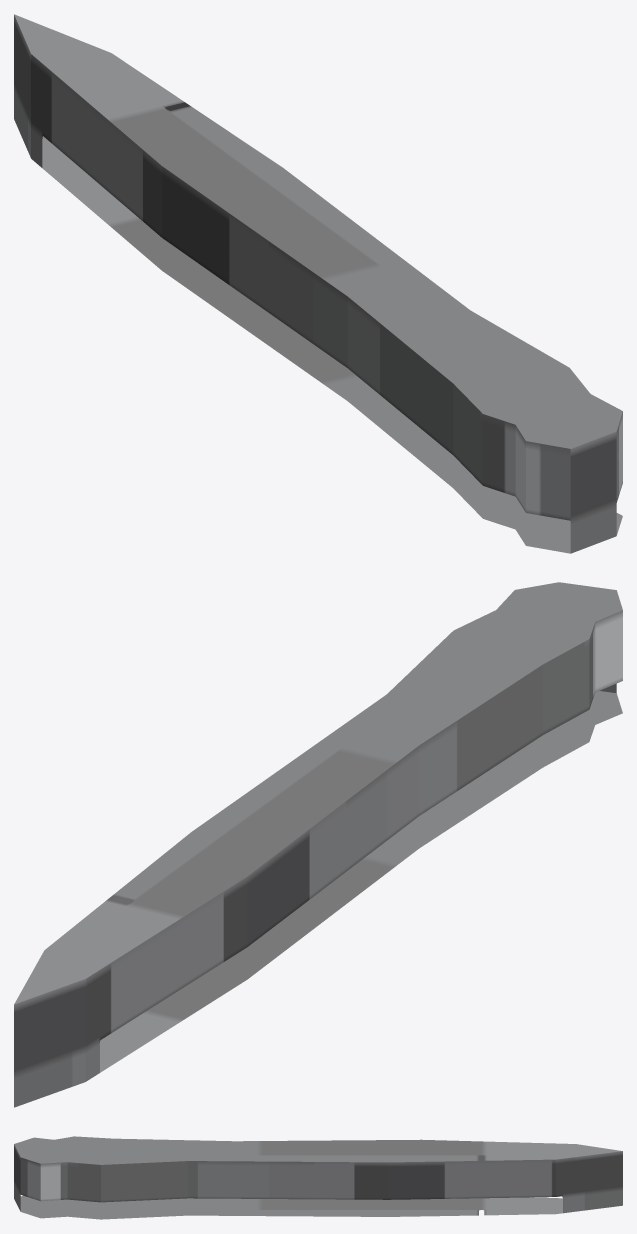
3 renders of one model, top to bottom at view 1: azimuth 30°, elevation 25°; view 2: azimuth 150°, elevation 25°; view 3: azimuth 270°, elevation 25°, orthographic. The views are drawn at different scales.
Size of the model in its own units: 0.0929 by 0.0828 by 0.8372.
